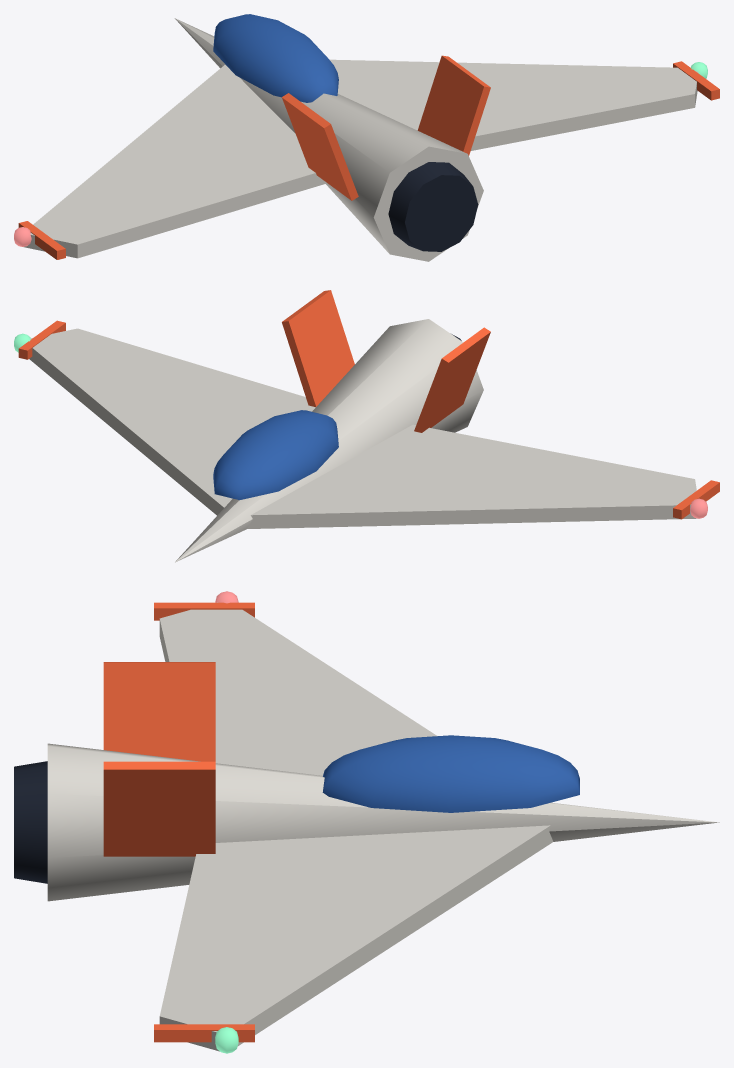
File: skyrift-glider-v1.glb
3 views of the same model, one above another, from view 1: azimuth 30°, elevation 25°; view 2: azimuth 150°, elevation 25°; view 3: azimuth 270°, elevation 25° (orthographic). The views are drawn at different scales.
Parts seen in each view (by area): view 1: Swept Wing, Fuselage, Canopy, Nozzle Shell, Starboard Tailfin, Port Tailfin, Port Tip, Starboard Tip; view 2: Swept Wing, Fuselage, Canopy, Starboard Tailfin, Port Tailfin, Port Tip, Starboard Tip; view 3: Swept Wing, Fuselage, Canopy, Starboard Tailfin, Port Tailfin, Nozzle Shell, Starboard Tip, Port Tip.
Part boxes in pixels (left/top/right/bottom): Swept Wing: left=24, top=59, right=698, bottom=258; Fuselage: left=174, top=18, right=483, bottom=261; Canopy: left=213, top=14, right=338, bottom=102; Nozzle Shell: left=388, top=162, right=478, bottom=251; Starboard Tailfin: left=417, top=55, right=490, bottom=155; Port Tailfin: left=282, top=93, right=358, bottom=200; Port Tip: left=18, top=221, right=65, bottom=259; Starboard Tip: left=673, top=61, right=719, bottom=100; Swept Wing: left=29, top=328, right=696, bottom=528; Fuselage: left=175, top=319, right=483, bottom=562; Canopy: left=213, top=410, right=338, bottom=500; Starboard Tailfin: left=282, top=290, right=354, bottom=407; Port Tailfin: left=414, top=327, right=490, bottom=432; Port Tip: left=673, top=480, right=719, bottom=519; Starboard Tip: left=18, top=320, right=65, bottom=359; Swept Wing: left=159, top=602, right=553, bottom=1051; Fuselage: left=47, top=743, right=719, bottom=901; Canopy: left=322, top=735, right=579, bottom=812; Starboard Tailfin: left=103, top=761, right=215, bottom=856; Port Tailfin: left=103, top=662, right=215, bottom=761; Nozzle Shell: left=14, top=761, right=47, bottom=883; Starboard Tip: left=154, top=1024, right=254, bottom=1042; Port Tip: left=154, top=602, right=254, bottom=620.
Bounding box in the file's own units: 9.44 × 1.83 × 6.3.
